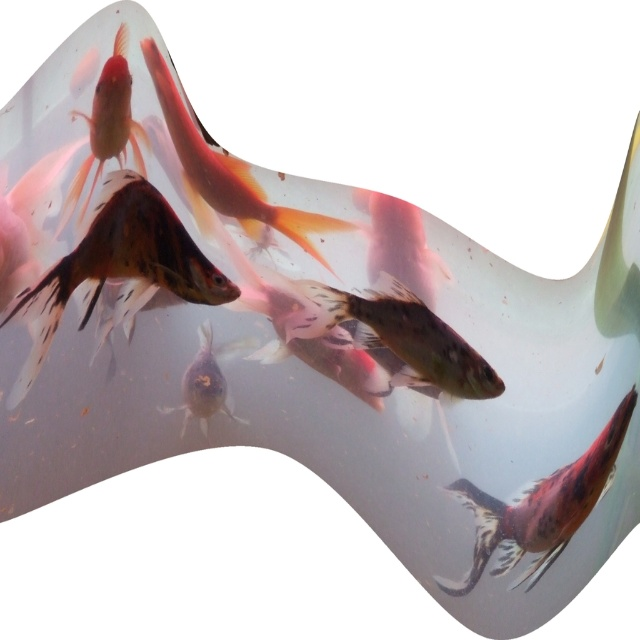Fish: (0, 19, 635, 595)
